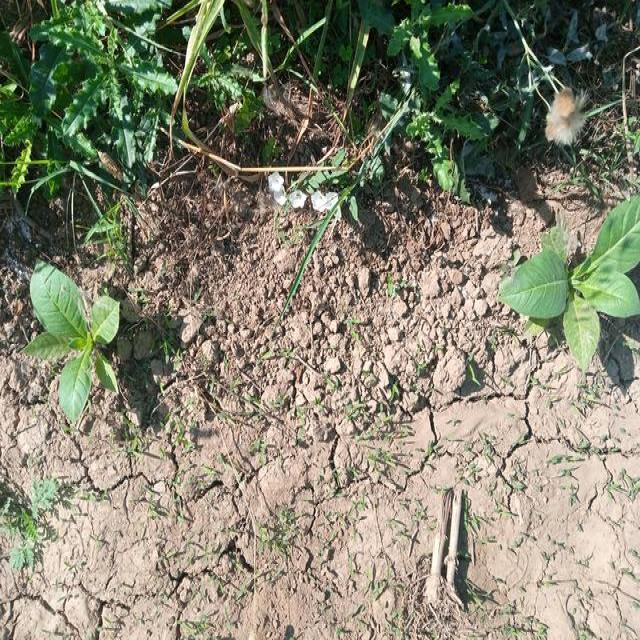crop: (506, 200, 640, 362), (18, 282, 121, 424)
